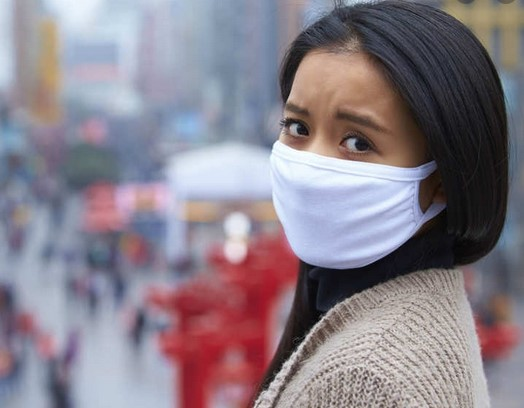face_with_mask: (265, 8, 505, 274)
